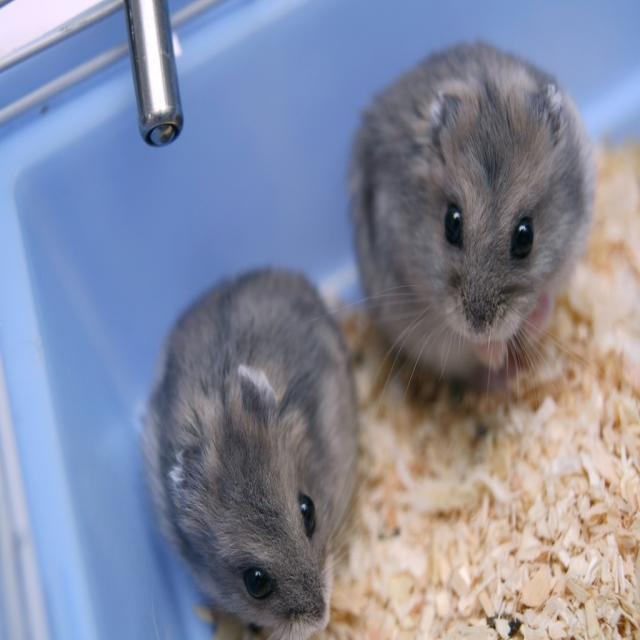rat: (345, 39, 591, 385), (139, 261, 363, 635)
